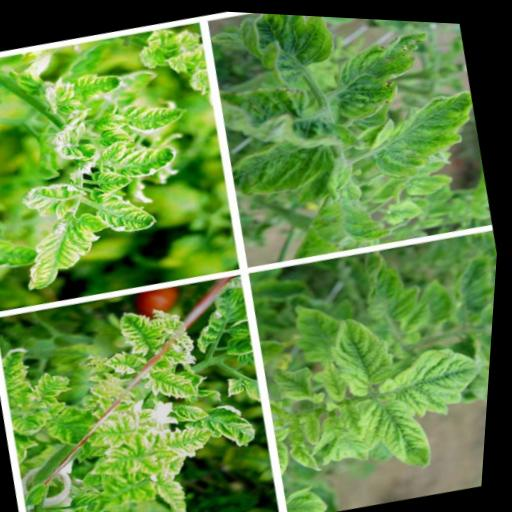Yellow Leaf Curl Virus: (350, 76, 488, 196), (202, 8, 348, 103), (320, 20, 449, 127), (201, 8, 347, 100), (374, 322, 496, 424), (17, 204, 125, 295), (226, 121, 346, 202), (323, 294, 413, 402), (359, 381, 454, 480), (183, 270, 262, 363), (85, 424, 173, 489), (288, 287, 356, 368), (99, 130, 187, 186), (89, 179, 167, 242), (115, 88, 196, 140), (15, 175, 94, 227), (203, 395, 266, 454), (272, 351, 335, 409), (116, 300, 177, 358), (1, 341, 48, 411), (143, 358, 205, 407), (0, 214, 48, 277), (166, 415, 227, 464), (68, 64, 131, 106), (35, 365, 85, 411), (156, 467, 204, 512), (384, 187, 435, 227), (289, 476, 339, 512), (15, 407, 61, 443), (103, 344, 150, 379), (87, 506, 170, 512)
